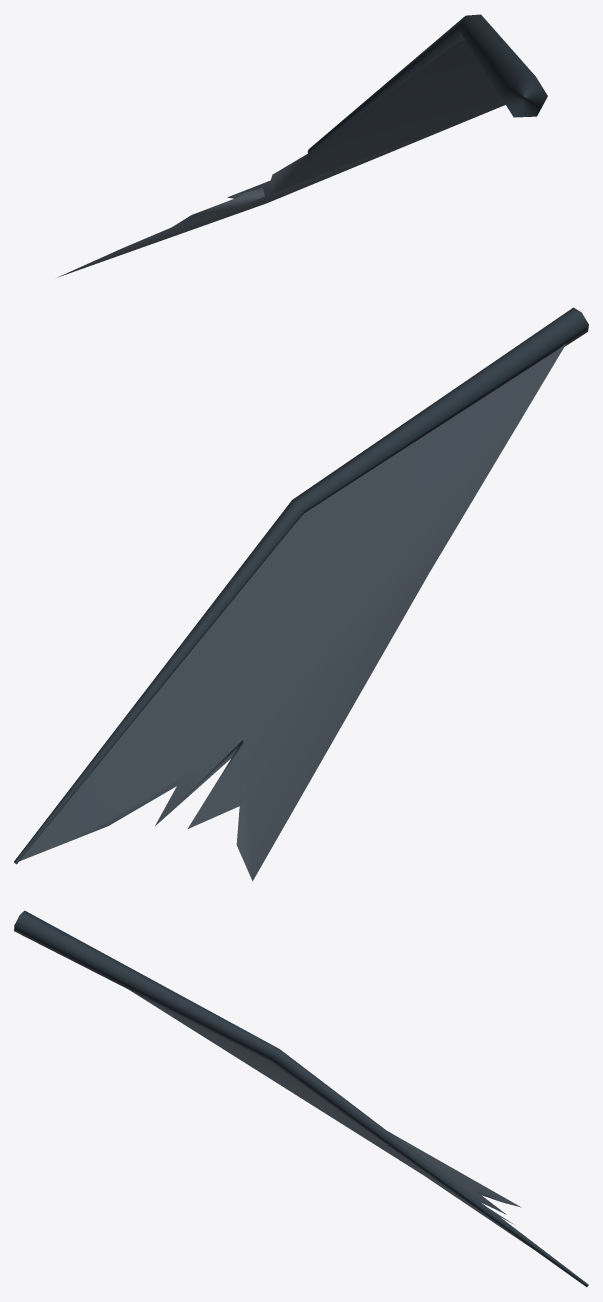
The model's file is R_Wing_Membrane_3.obj.
The picture shows the model from 3 angles, top to bottom: view 1: azimuth 30°, elevation 25°; view 2: azimuth 150°, elevation 25°; view 3: azimuth 270°, elevation 25°; orthographic projection. The views are drawn at different scales.
Visible parts, largest first — view 1: R_Wing_Membrane_3; view 2: R_Wing_Membrane_3; view 3: R_Wing_Membrane_3.
Part boxes in pixels (box(x1,y1,x2,y2)): R_Wing_Membrane_3: box(57, 14, 547, 277); R_Wing_Membrane_3: box(14, 307, 588, 881); R_Wing_Membrane_3: box(14, 910, 588, 1287).
Bounding box in the file's own units: 2.05 × 3 × 5.42.
